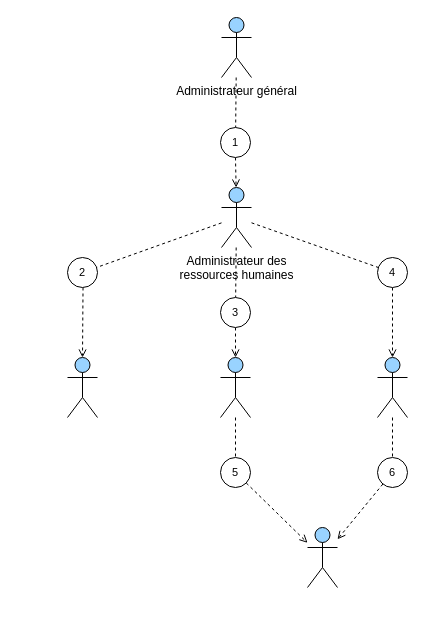
This 440x626 diagram has some shape labels left out. The box of each missing label's shape, as (x1, y1, x2, y2) in pixels:
Administrateur de barriere: (220, 356, 250, 418)
Administrateur de péage: (66, 356, 98, 418)
Moderateur: (376, 356, 408, 418)
Utilisateur lambda: (306, 526, 338, 588)
